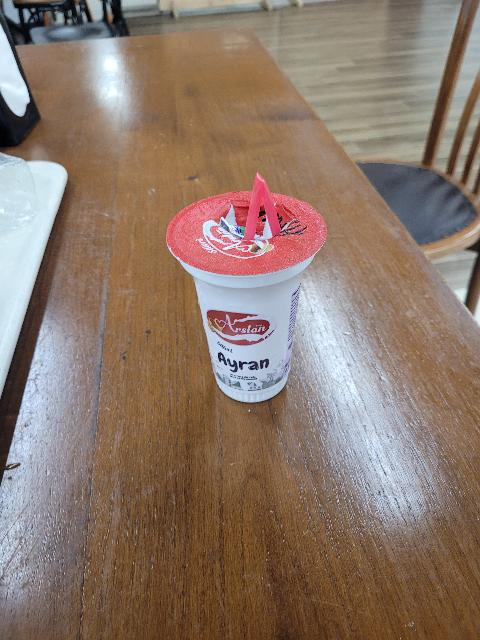Plastik: (163, 191, 326, 404), (244, 166, 282, 244)
